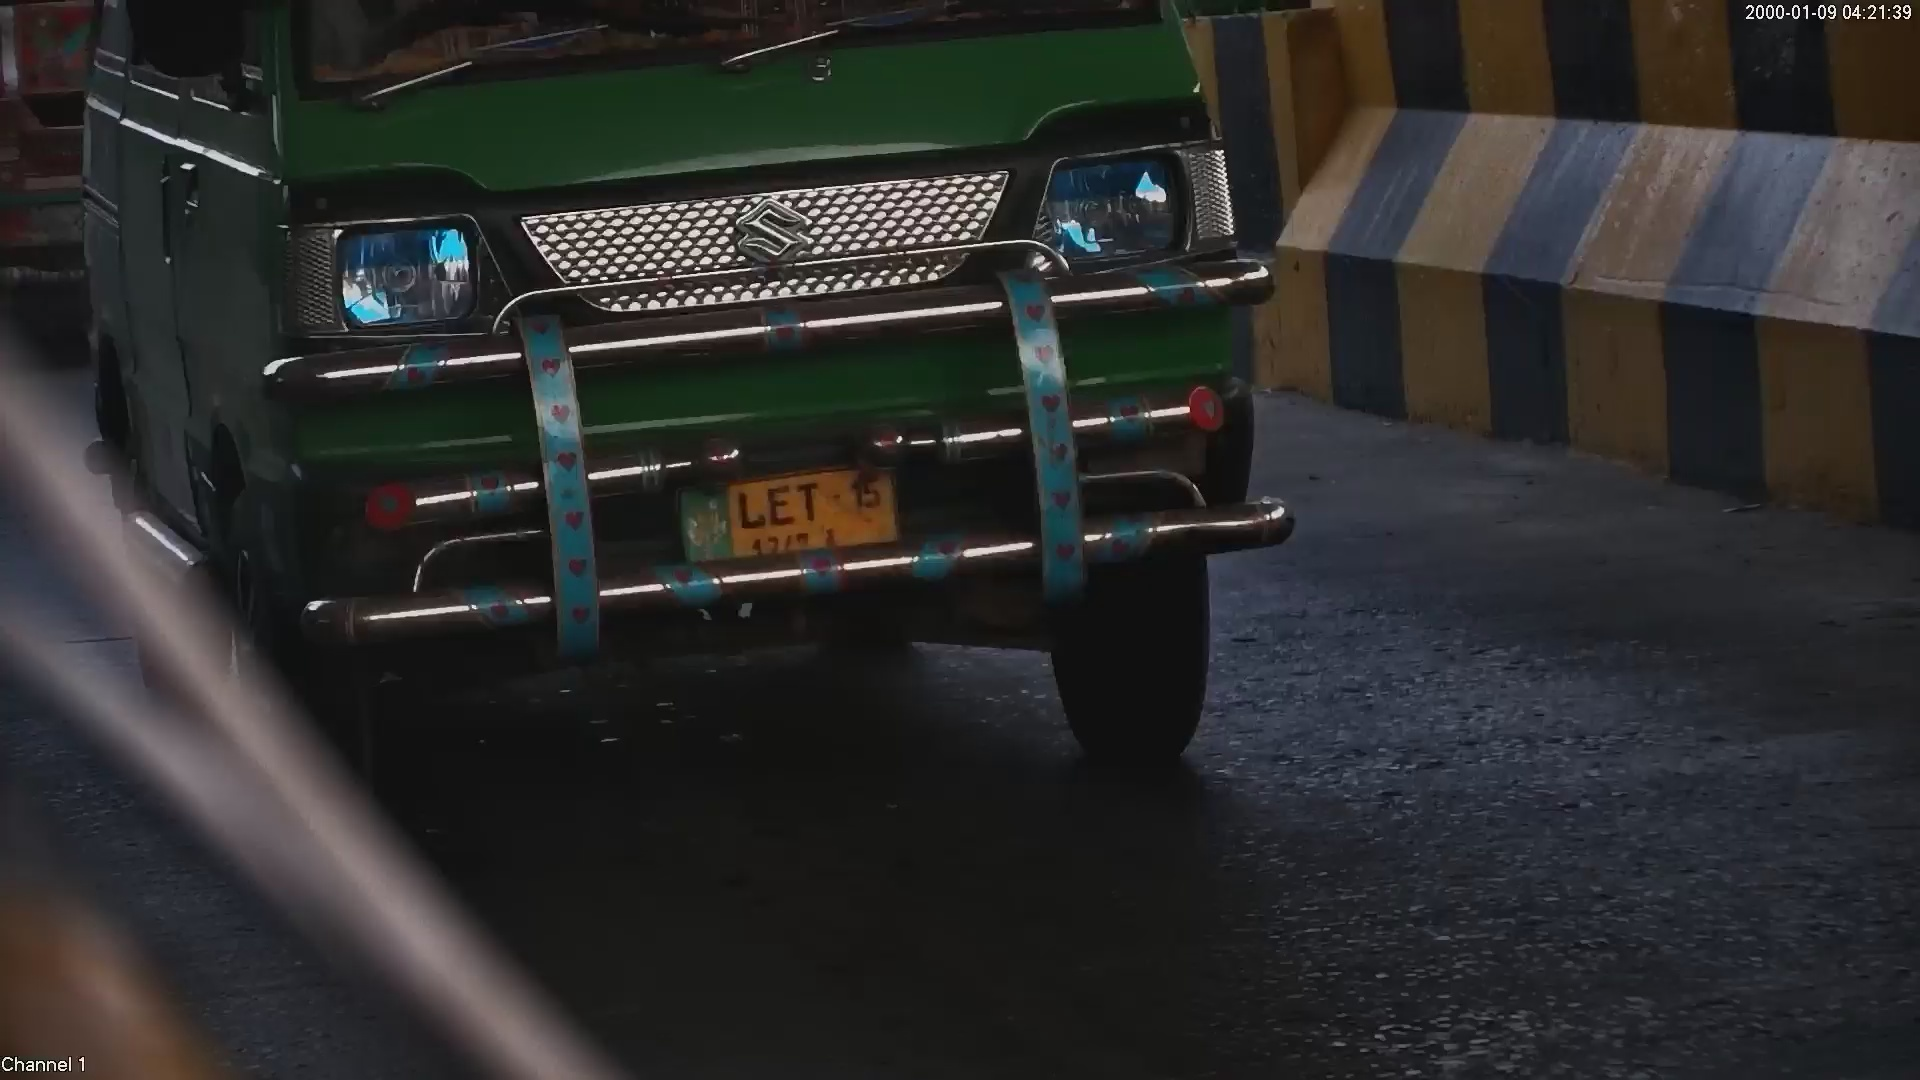Number_Plate: (645, 449, 965, 581)
Undefined: (260, 194, 506, 355), (1013, 136, 1254, 283), (658, 179, 908, 292)
